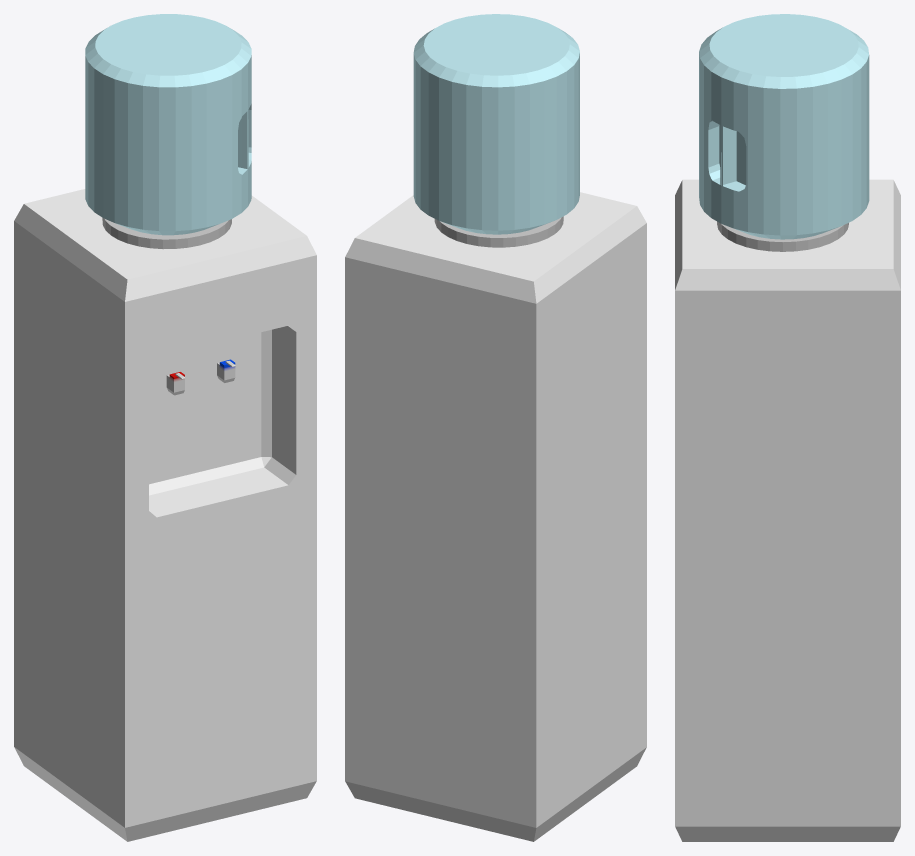
File: WaterDispenser.fbx
3 renders of one model, left to right at view 1: azimuth 30°, elevation 25°; view 2: azimuth 150°, elevation 25°; view 3: azimuth 270°, elevation 25°, orthographic. The views are drawn at different scales.
Visible parts, largest first — view 1: WaterDispenserBase; view 2: WaterDispenserBase; view 3: WaterDispenserBase.
Boxes of the visible parts, bbox=[...] form: WaterDispenserBase: bbox=[14, 14, 316, 841]; WaterDispenserBase: bbox=[345, 14, 646, 841]; WaterDispenserBase: bbox=[675, 14, 900, 841].
Bounding box in the file's own units: 32.77 × 120 × 32.77.
Materials: 1 (1 with a texture image).
